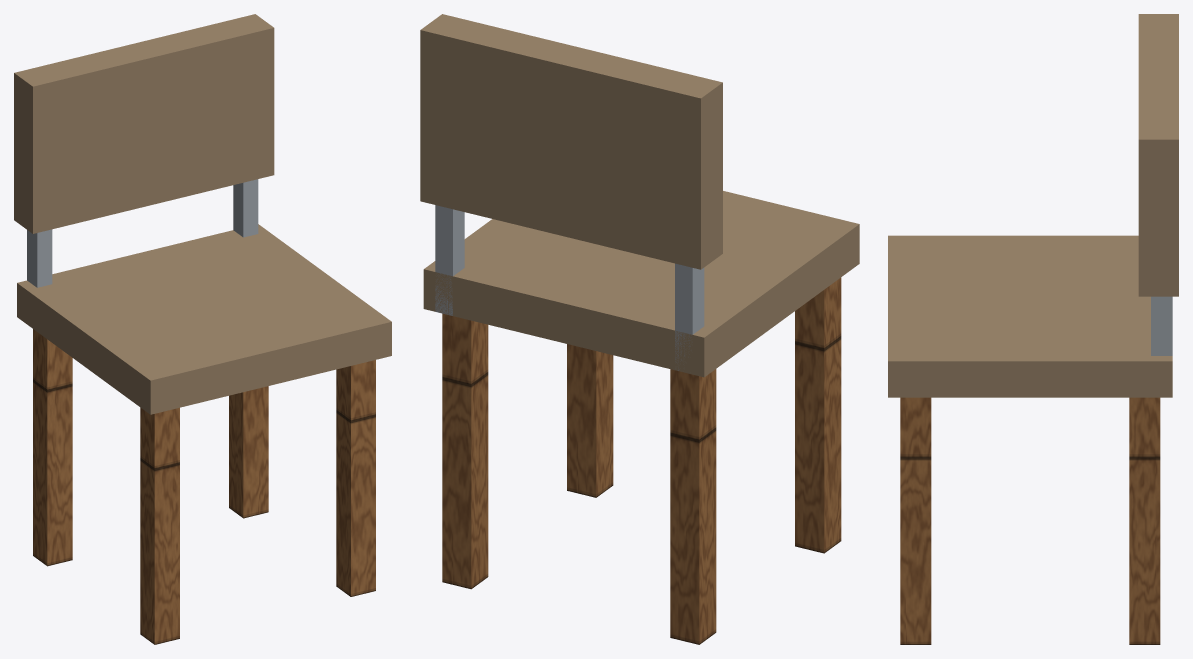
The model's file is Etkezoszek_karpitozott.obj.
3 renders of one model, left to right at view 1: azimuth 30°, elevation 25°; view 2: azimuth 150°, elevation 25°; view 3: azimuth 270°, elevation 25°, orthographic. The views are drawn at different scales.
Size of the model in its own units: 0.48 by 0.91 by 0.47.
Materials: 3 (1 with a texture image).
